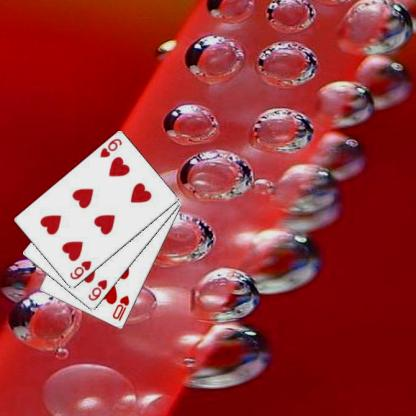10H: (110, 292, 130, 322)
6H: (67, 258, 93, 282), (98, 136, 124, 159), (86, 277, 108, 302)
